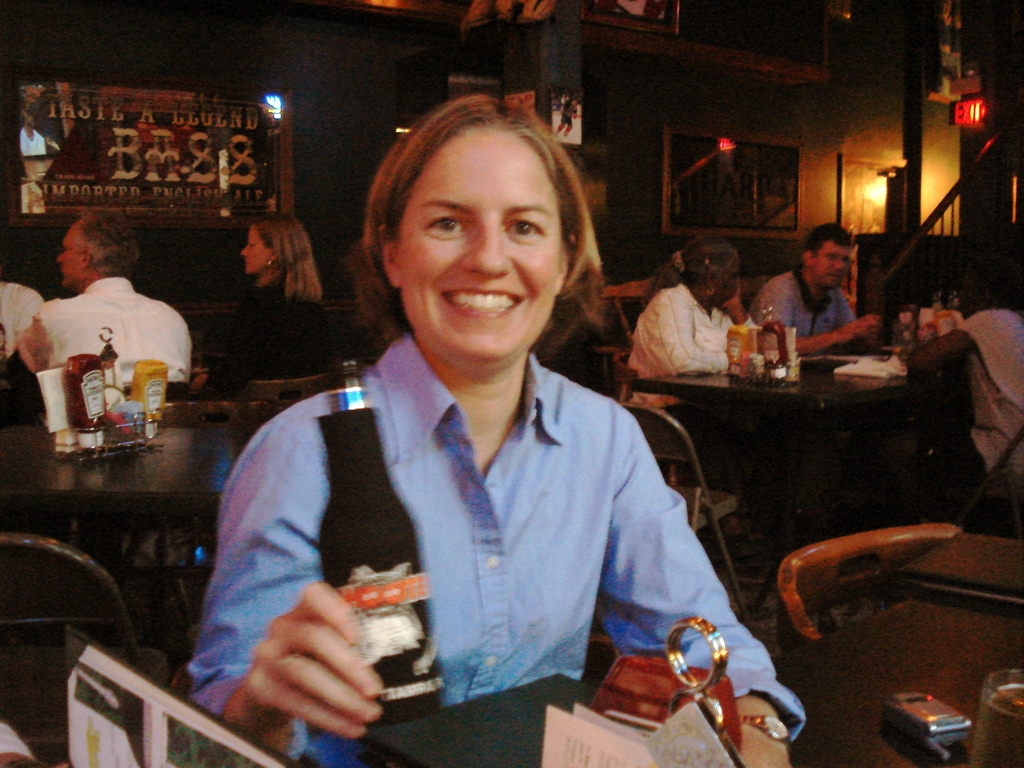Human_hand: (248, 595, 376, 744), (739, 710, 794, 767), (846, 314, 883, 348), (720, 275, 737, 311)
